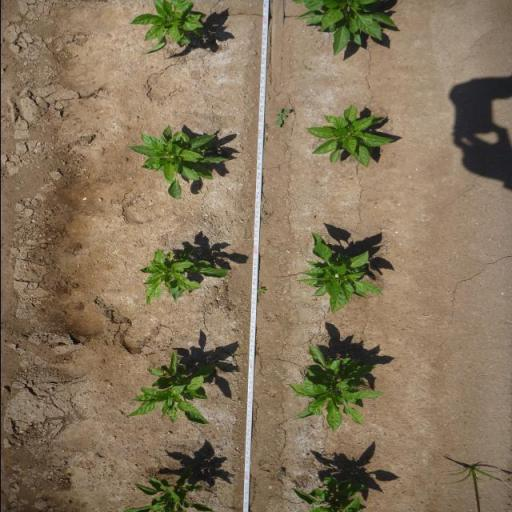plant: (282, 339, 392, 435), (122, 120, 236, 206), (290, 226, 390, 316), (124, 347, 218, 430), (306, 100, 404, 170), (285, 0, 403, 58), (135, 248, 232, 310), (124, 0, 216, 59), (122, 473, 220, 512), (291, 475, 368, 512)
weed: (436, 456, 512, 512), (270, 106, 293, 130), (256, 285, 270, 296), (301, 63, 312, 71)
